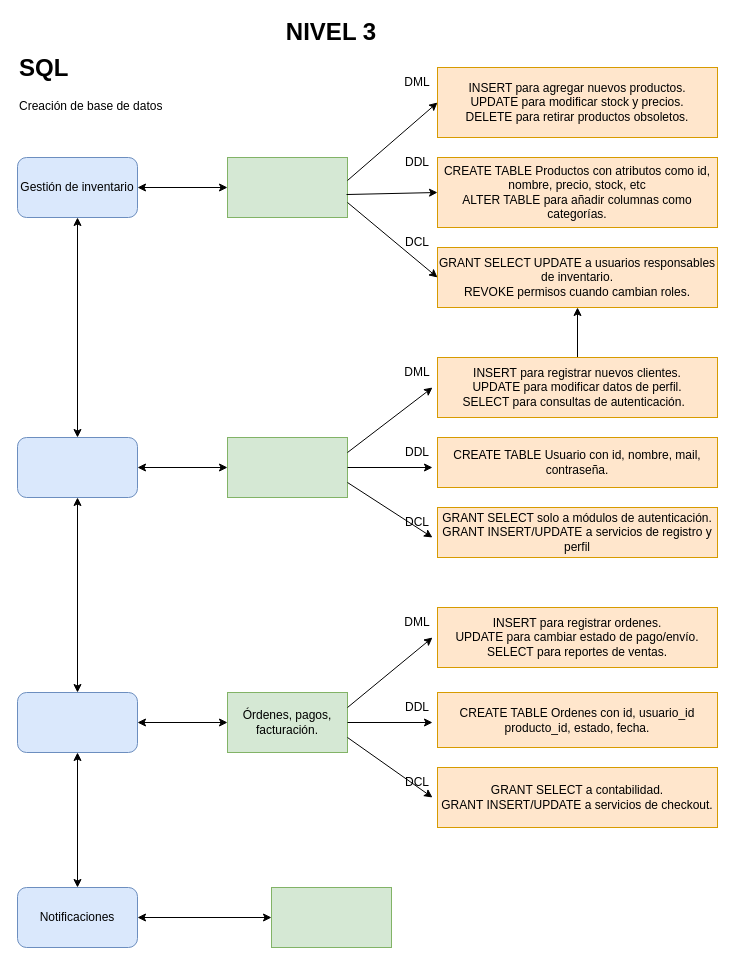
Some shapes in this 735 by 965 pixel diagram are drawn without their labels. Here are the shapes that lost their labels. From the top down, the centre of each, then its label:
At [287,187]: "Control de stock y productos.".
At [77,467]: "Gestión de usuarios".
At [287,467]: "Datos de clientes, perfiles.".
At [77,722]: "Gestión de transacciones".
At [331,917]: "Correos y alertas a clientes.".
